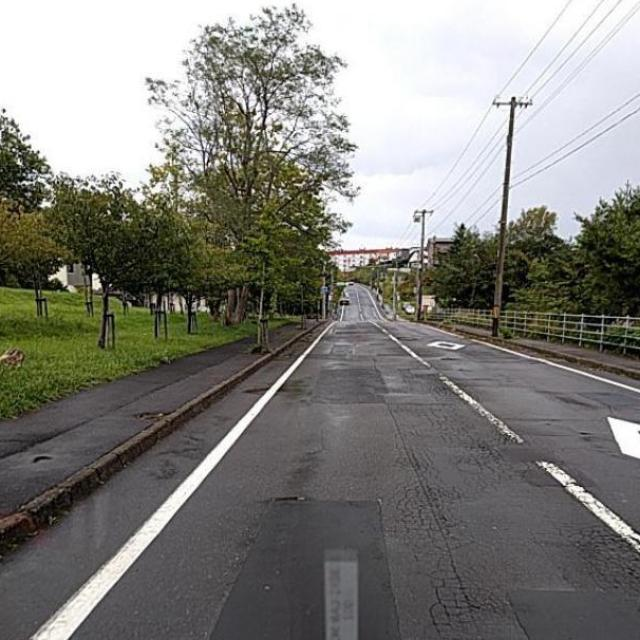Sambungan: (209, 500, 403, 640)
